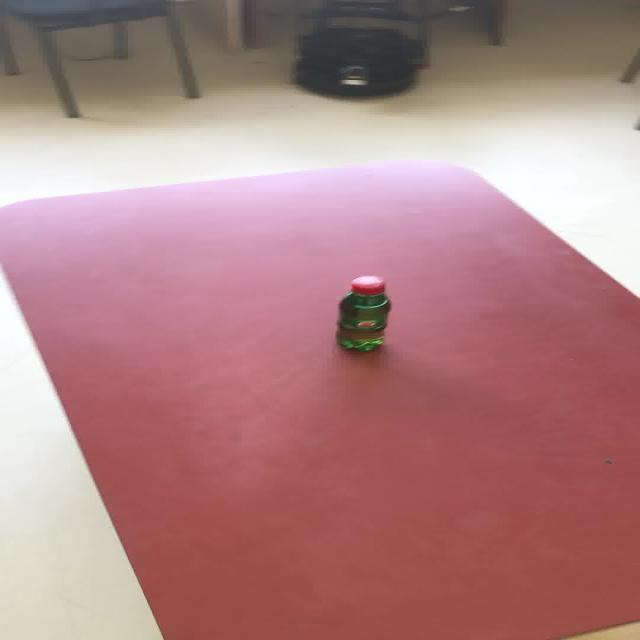guarana: (333, 274, 391, 352)
